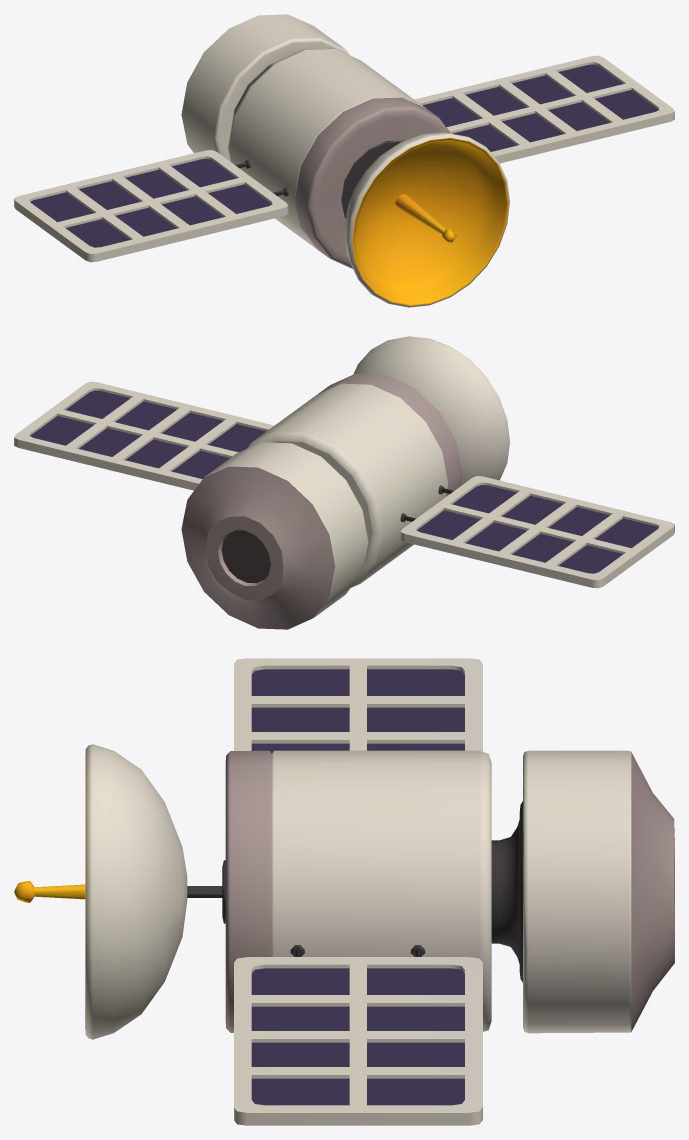
Rendered from Satellite_1.fbx.
The picture shows the model from 3 angles, top to bottom: view 1: azimuth 30°, elevation 25°; view 2: azimuth 150°, elevation 25°; view 3: azimuth 270°, elevation 25°; orthographic projection. The views are drawn at different scales.
Visible parts, largest first — view 1: Satellite_1; view 2: Satellite_1; view 3: Satellite_1.
Part boxes in pixels (<box>): Satellite_1: <box>14,14,674,307</box>; Satellite_1: <box>14,336,674,629</box>; Satellite_1: <box>14,658,674,1125</box>.
Size of the model in its own units: 4.47 by 1.23 by 2.75.
